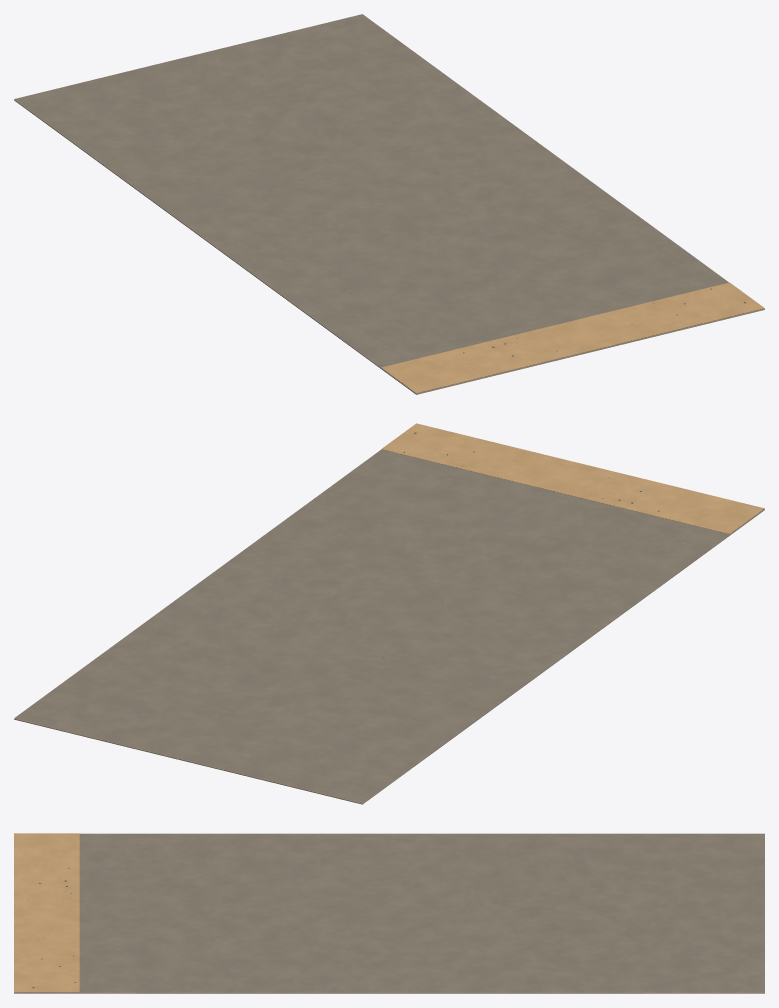
File: ground_caves.glb
3 views of the same model, one above another, from view 1: azimuth 30°, elevation 25°; view 2: azimuth 150°, elevation 25°; view 3: azimuth 270°, elevation 25° (orthographic). The views are drawn at different scales.
Parts seen in each view (by area): view 1: SM_GroundCaves; view 2: SM_GroundCaves; view 3: SM_GroundCaves.
Boxes of the visible parts, box(x1,y1,x2,y2) form: SM_GroundCaves: box(14, 14, 764, 394); SM_GroundCaves: box(14, 423, 764, 804); SM_GroundCaves: box(14, 833, 764, 993).
Size of the model in its own units: 40 by 0.2678 by 80.
1 material, 1 textured.
